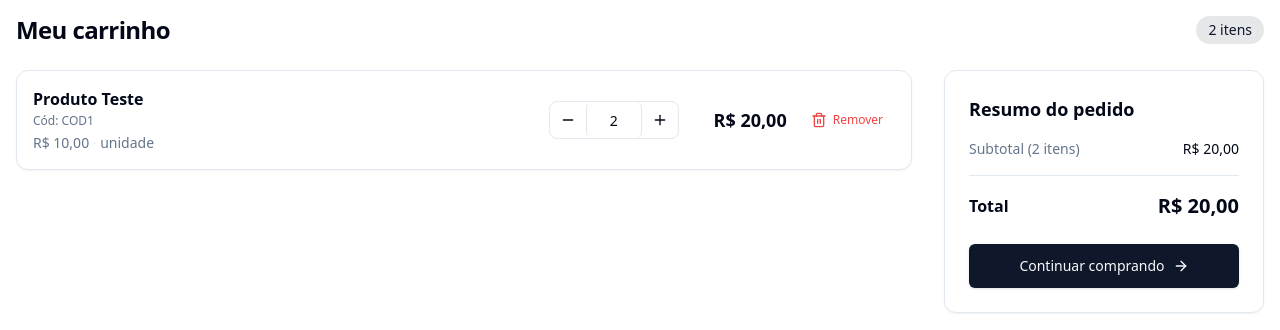
Test: CartPage › updates quantity when typing in input and blur
This screenshot has width=1280, height=330.
Replace the text in the number field with test id "cart-item-quantity" with "5" at (614, 120), box [586,102,642,138]
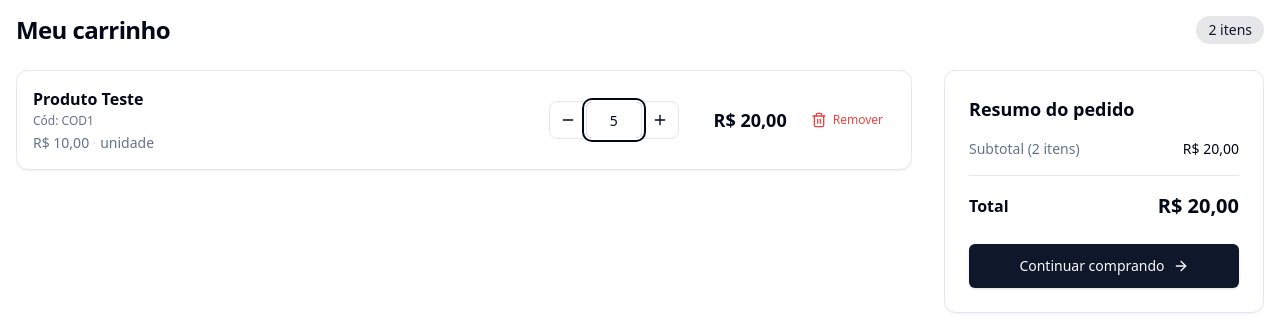
Leave the number field with test id "cart-item-quantity", box [586,102,642,138]
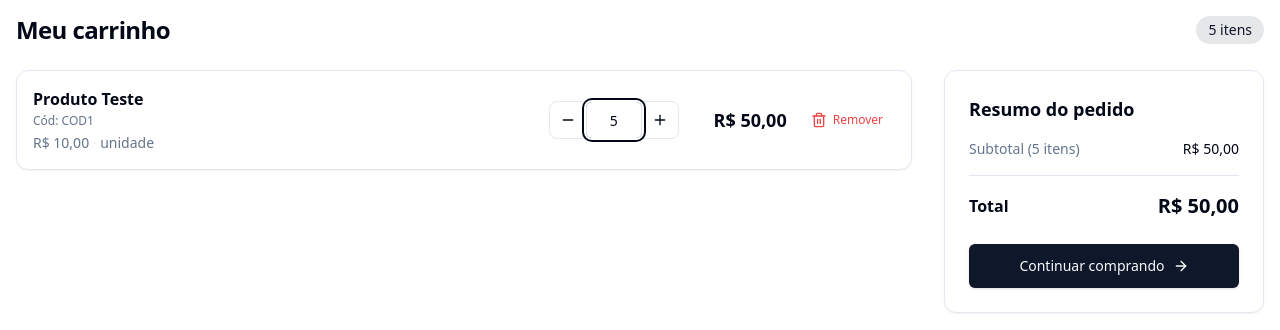
Check: the text with test id "cart-total" reads "R$ 50,00", box [1158,192,1239,219]
